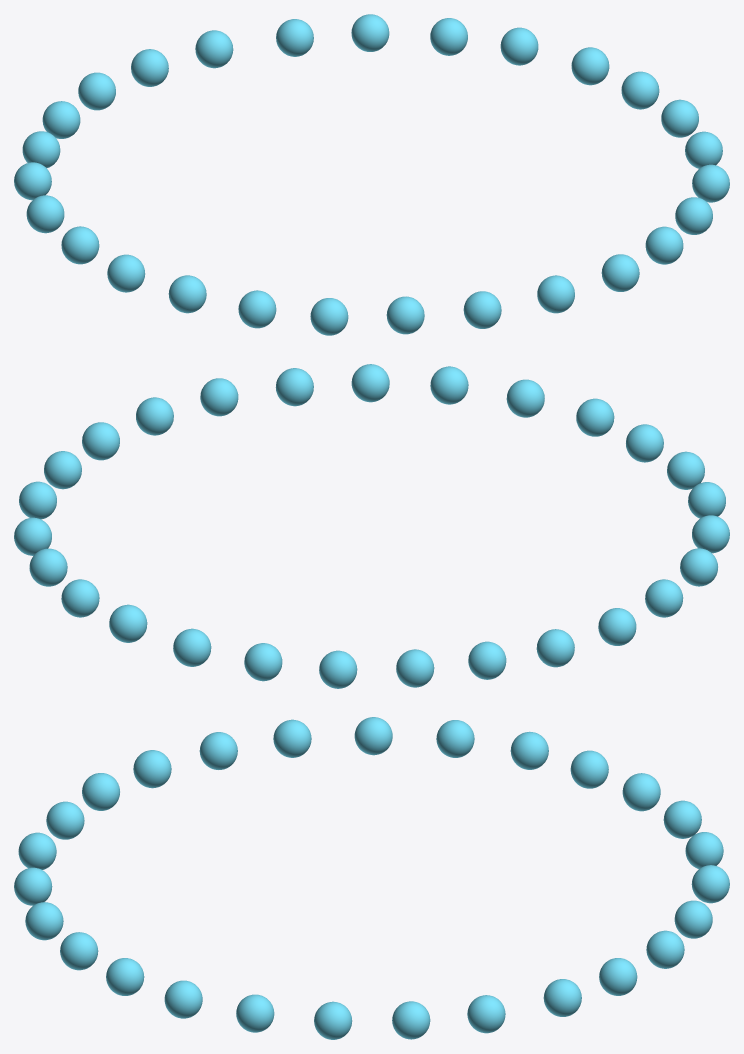
3 renders of one model, top to bottom at view 1: azimuth 30°, elevation 25°; view 2: azimuth 150°, elevation 25°; view 3: azimuth 270°, elevation 25°, orthographic.
Visible parts, largest first — view 1: Sphere049; view 2: Sphere049; view 3: Sphere049.
Boxes of the visible parts, <box> form: Sphere049: <box>14,14,729,335</box>; Sphere049: <box>14,364,729,688</box>; Sphere049: <box>14,717,729,1039</box>.
Size of the model in its own units: 153 by 8.22 by 154.
